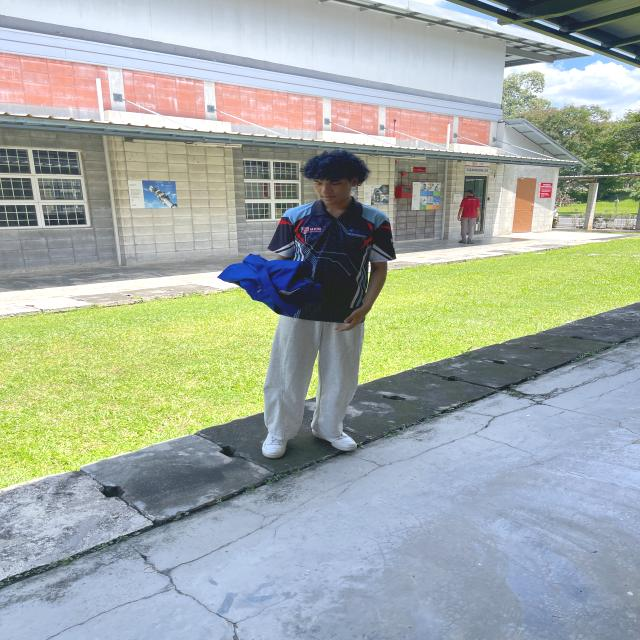person_without_labcoat: (219, 150, 396, 459)
